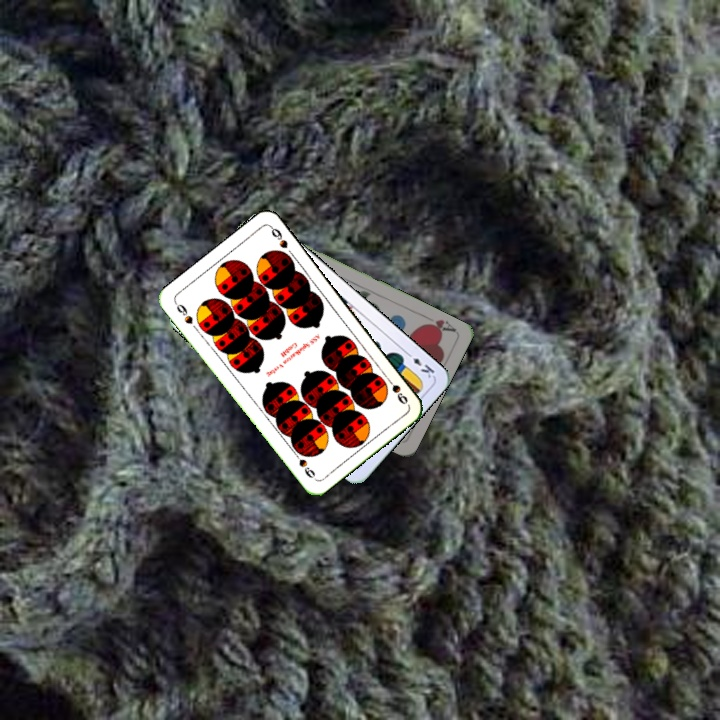EK: (402, 348, 437, 381)
HA: (419, 311, 458, 336)
S9: (381, 372, 410, 407), (171, 298, 196, 327)
